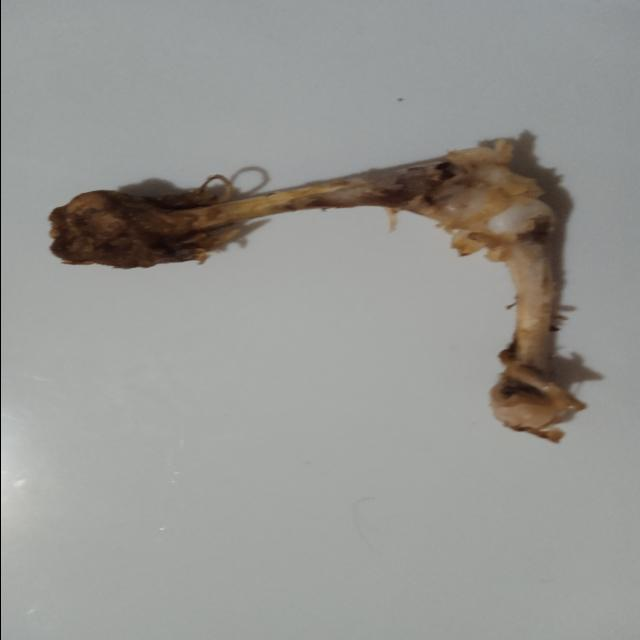bone: (30, 123, 608, 452)
